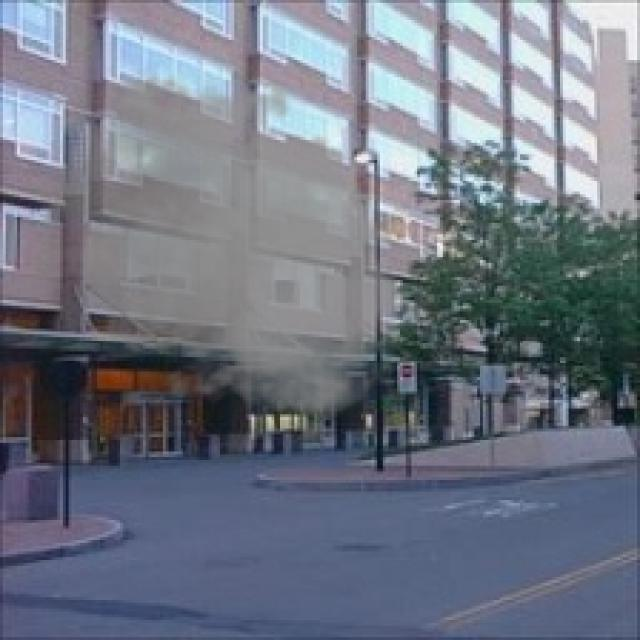smoke: (23, 63, 420, 423)
